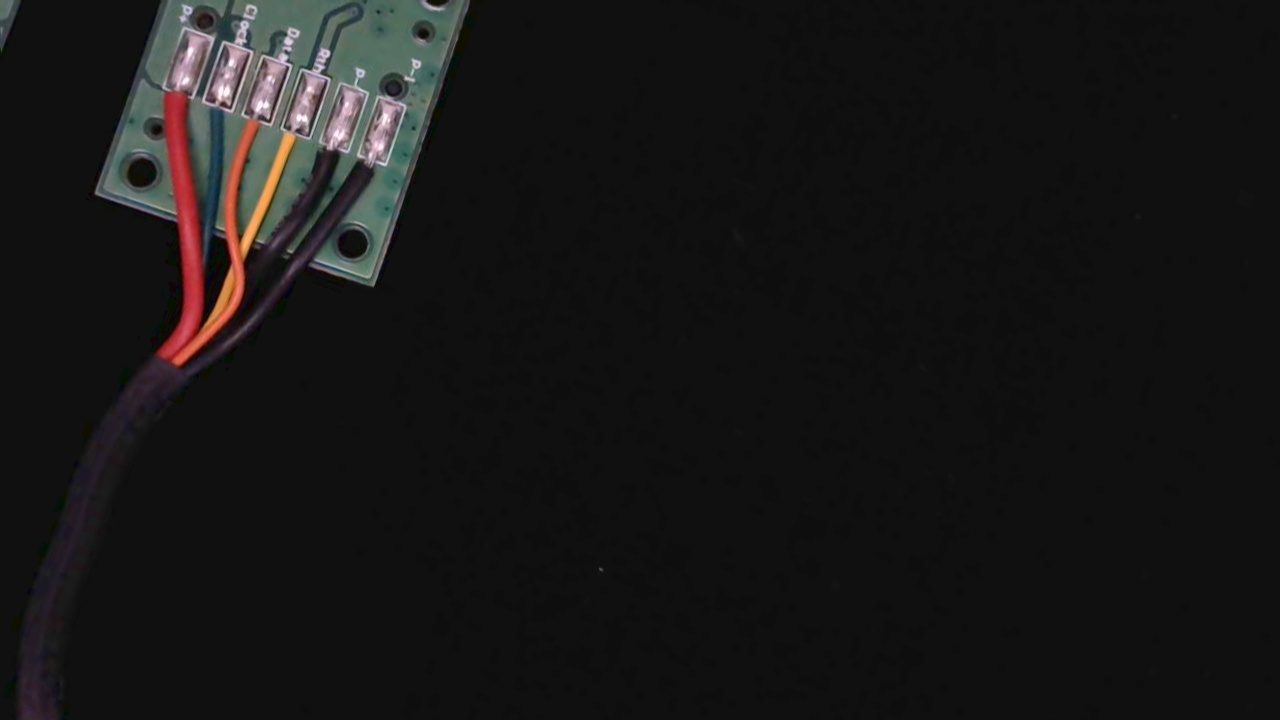Black: (296, 124, 353, 204)
Black1: (339, 138, 393, 212)
Green: (181, 81, 238, 159)
Orange: (222, 97, 277, 176)
Red: (140, 74, 197, 152)
Yellow: (258, 108, 317, 190)
